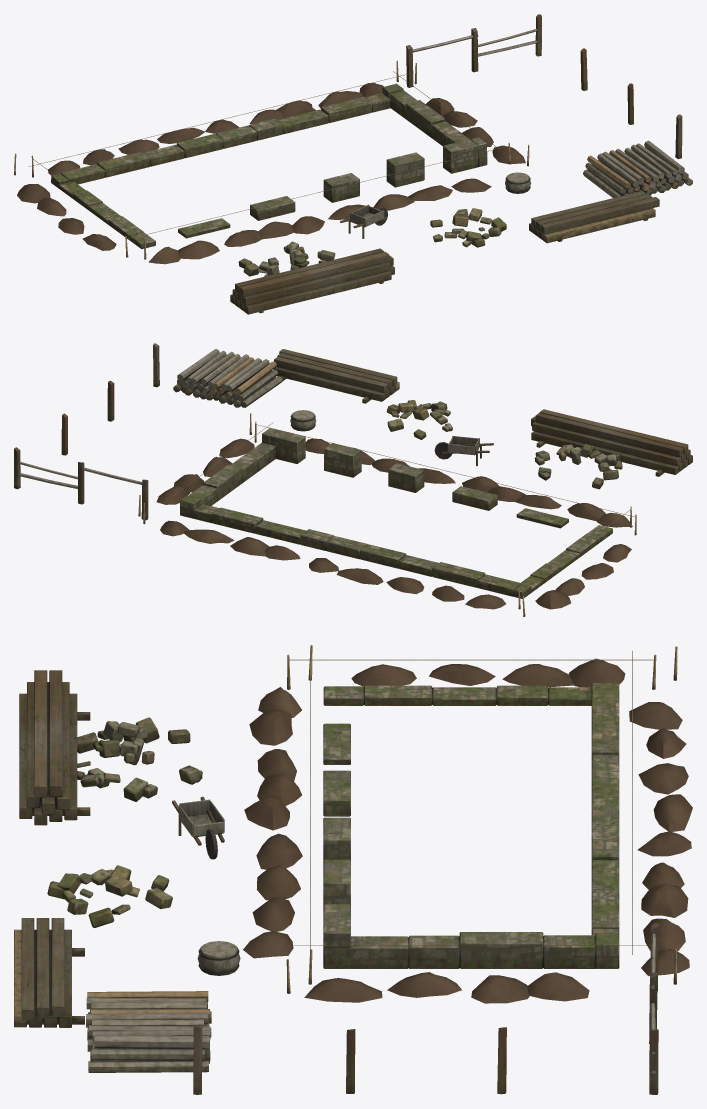
Rendered from stables_build1.glb.
3 renders of one model, top to bottom at view 1: azimuth 30°, elevation 25°; view 2: azimuth 150°, elevation 25°; view 3: azimuth 270°, elevation 25°, orthographic. The views are drawn at different scales.
Visible parts, largest first — view 1: stables_build1_LOD0; view 2: stables_build1_LOD0; view 3: stables_build1_LOD0.
Boxes of the visible parts, x1,y1,x2,y2 form: stables_build1_LOD0: [14, 14, 692, 314]; stables_build1_LOD0: [14, 343, 692, 616]; stables_build1_LOD0: [14, 645, 692, 1094].
Size of what is drawn, in the model's own units: 18.92 by 1.41 by 12.65.
Materials: 1 (1 with a texture image).
